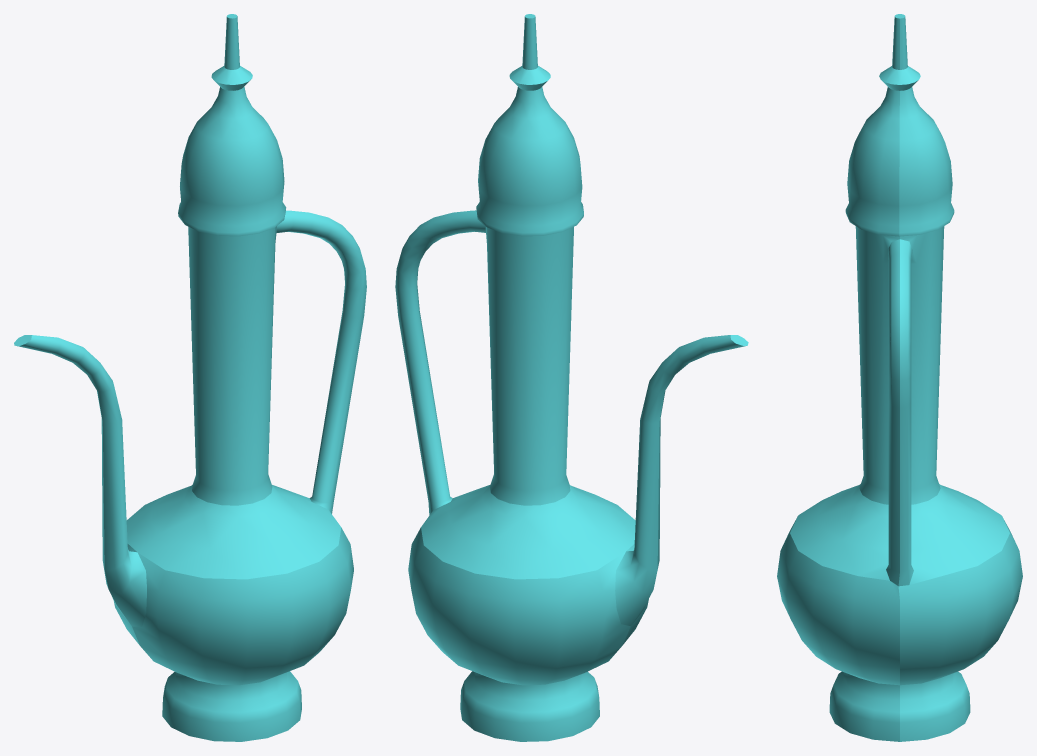
The model's file is SM_Magic_Kettle.fbx.
The picture shows the model from 3 angles, left to right: view 1: azimuth 30°, elevation 25°; view 2: azimuth 150°, elevation 25°; view 3: azimuth 270°, elevation 25°; orthographic projection.
Visible parts, largest first — view 1: SM_Magic_Kettle; view 2: SM_Magic_Kettle; view 3: SM_Magic_Kettle.
Boxes of the visible parts, box(x1,y1,x2,y2) form: SM_Magic_Kettle: box(14, 14, 366, 741); SM_Magic_Kettle: box(395, 14, 748, 741); SM_Magic_Kettle: box(777, 14, 1022, 741).
Bounding box in the file's own units: 0.3967 × 0.7512 × 0.2406.
